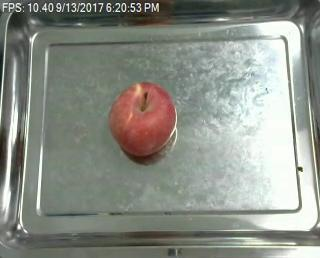apple: (107, 82, 177, 159)
